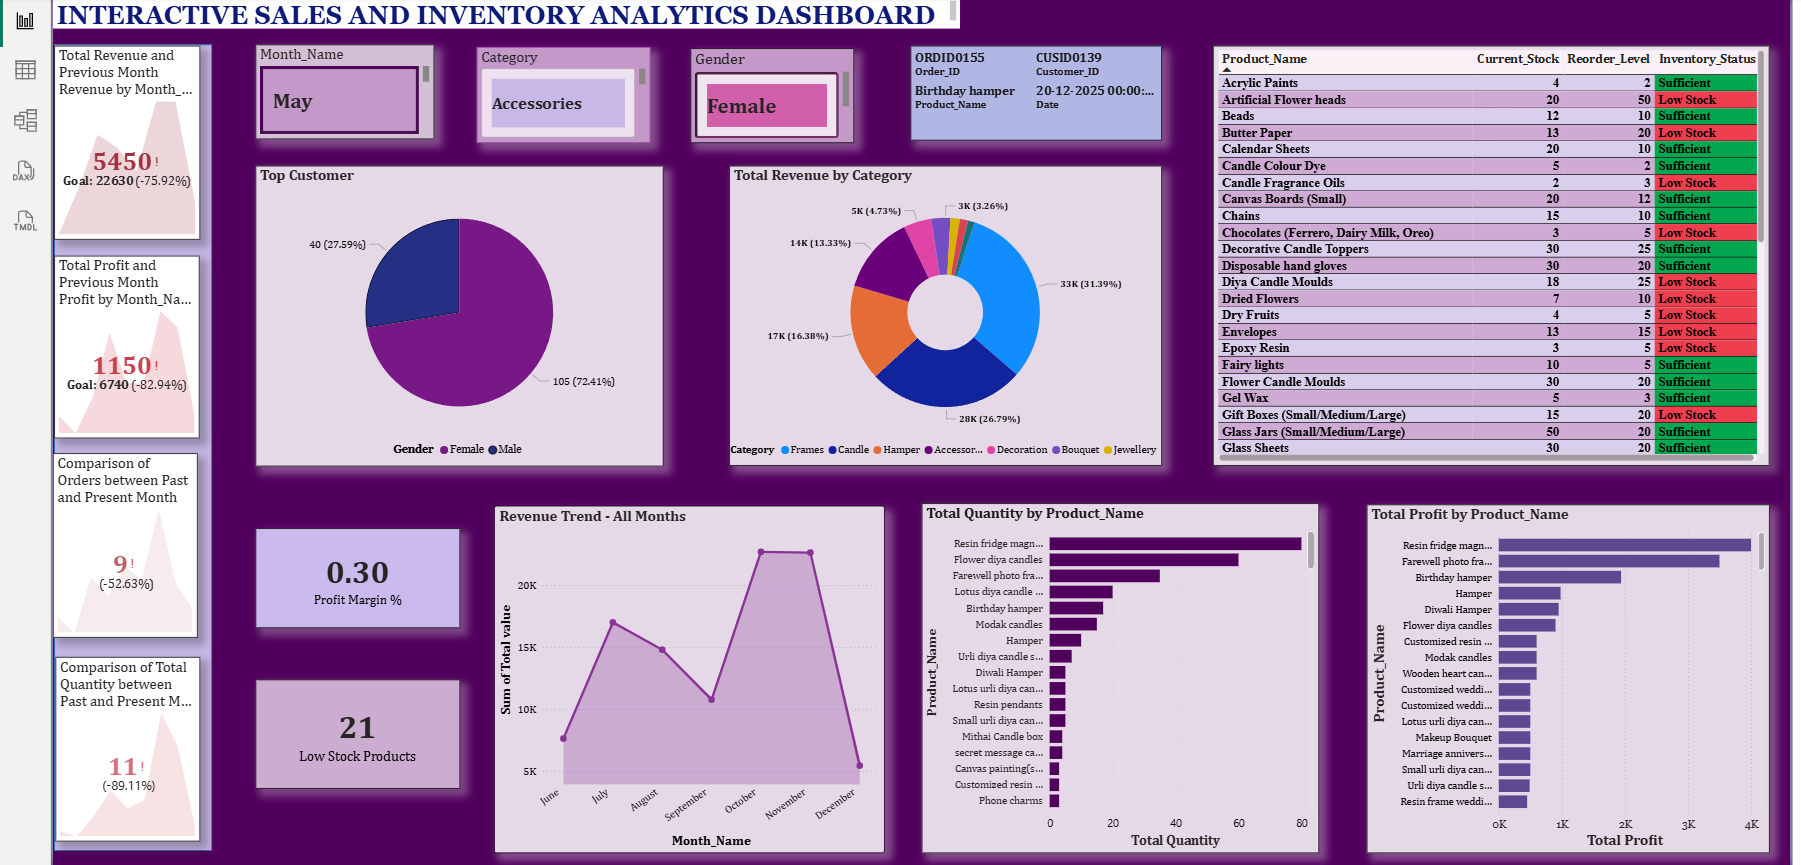

This screenshot's page, from the dashboard's own definition file:
{"tool":"powerbi","page":{"name":"Dashboard","canvas":[2200,1100],"ordinal":0},"visuals":[{"type":"shape","box":[1.7,60.5,199.9,1021.2],"z":0},{"type":"actionButton","box":[0,0,100,40],"z":1000},{"type":"donutChart","fields":{"Category":["Sales_sheet.Category"],"Y":["Sales_sheet.Total Revenue"]},"box":[856.5,213.7,547.8,380],"z":2000},{"type":"clusteredBarChart","fields":{"Category":["Sales_sheet.Product_Name"],"Y":["Sales_sheet.Total Quantity"]},"box":[1100.3,641.4,503.3,443.6],"z":3000},{"type":"pieChart","title":"Top Customer","fields":{"Category":["Customer_sheet.Gender (Male / Female /Other)"],"Y":["CountNonNull(Customer_sheet.Customer_ID)"]},"box":[255.9,213.2,516.9,380.4],"z":4000},{"type":"tableEx","fields":{"Values":["Inventory_sheet.Product_Name","Inventory_sheet.Current_Stock","Inventory_sheet.Reorder_Level","Inventory_sheet.Inventory_Status"]},"box":[1468.8,61.4,704.6,532.3],"z":5000},{"type":"lineChart","fields":{"Y":["Sum(Sales_sheet.Total value )"],"Category":["Date_sheet.Month_Name"]},"box":[559.6,644.9,494.7,440.1],"z":6000},{"type":"clusteredBarChart","fields":{"Category":["Sales_sheet.Product_Name"],"Y":["Sales_sheet.Total Profit"]},"box":[1663.3,643.1,510.1,441.8],"z":7000},{"type":"multiRowCard","fields":{"Values":["Order_sheet.Order_ID","Customer_sheet.Customer_ID","Sales_sheet.Product_Name","Date_sheet.Date"]},"box":[1086.1,61.7,318.2,120.3],"z":8000},{"type":"kpi","fields":{"Indicator":["Sales_sheet.Total Revenue"],"TrendLine":["Date_sheet.Month_Name"],"Goal":["Sales_sheet.Previous Month Revenue"]},"box":[1.7,62.1,184.8,245.2],"z":9000},{"type":"kpi","fields":{"Indicator":["Sales_sheet.Total Profit"],"TrendLine":["Date_sheet.Month_Name"],"Goal":["Sales_sheet.Profit Target"]},"box":[2.4,327.8,184,231.1],"z":10000},{"type":"kpi","title":"Comparison of Orders between Past and Present Month","fields":{"Indicator":["Sales_sheet.Total Orders"],"TrendLine":["Date_sheet.Month_Name"],"Goal":["Sales_sheet.Previous Month Orders"]},"box":[0,577.8,183.1,233.5],"z":11000},{"type":"kpi","title":"Comparison of Total Quantity between Past and Present Month","fields":{"Indicator":["Sales_sheet.Total Quantity"],"TrendLine":["Date_sheet.Month_Name"],"Goal":["Sales_sheet.Previous Month Quantity"]},"box":[3.4,836.4,183.1,233.5],"z":12000},{"type":"advancedSlicerVisual","fields":{"Values":["Date_sheet.Month_Name"]},"box":[256.5,60.2,226.4,120.3],"z":13000},{"type":"advancedSlicerVisual","fields":{"Values":["Sales_sheet.Category"]},"box":[536.7,63.3,220.1,121.9],"z":14000},{"type":"advancedSlicerVisual","title":"Gender ","fields":{"Values":["Customer_sheet.Gender (Male / Female /Other)"]},"box":[807.4,64.9,207.4,120.3],"z":15000},{"type":"card","fields":{"Values":["Sales_sheet.Profit Margin %"]},"box":[255.9,672.1,259.3,126.2],"z":16000},{"type":"card","fields":{"Values":["Inventory_sheet.Low Stock Products"]},"box":[255.9,864.9,259.3,138.2],"z":17000},{"type":"actionButton","box":[274.7,0,99.7,39.2],"z":18000},{"type":"textbox","box":[0,0,1148.8,40.3],"z":19000}]}

Visuals, with their boxes in screenshot pixels (x1, y1, x2, y2):
shape: (left=44, top=34, right=204, bottom=854)
actionButton: (left=42, top=0, right=122, bottom=18)
donutChart - Sales_sheet.Category x Sales_sheet.Total Revenue: (left=729, top=157, right=1169, bottom=462)
clusteredBarChart - Sales_sheet.Product_Name x Sales_sheet.Total Quantity: (left=925, top=500, right=1328, bottom=856)
"Top Customer" pieChart: (left=247, top=157, right=662, bottom=462)
tableEx - Inventory_sheet.Product_Name x Inventory_sheet.Current_Stock: (left=1220, top=35, right=1786, bottom=462)
lineChart - Sum(Sales_sheet.Total value ) x Date_sheet.Month_Name: (left=491, top=503, right=888, bottom=856)
clusteredBarChart - Sales_sheet.Product_Name x Sales_sheet.Total Profit: (left=1376, top=502, right=1786, bottom=856)
multiRowCard - Order_sheet.Order_ID x Customer_sheet.Customer_ID: (left=913, top=35, right=1169, bottom=132)
kpi - Sales_sheet.Total Revenue x Date_sheet.Month_Name: (left=44, top=36, right=192, bottom=232)
kpi - Sales_sheet.Total Profit x Date_sheet.Month_Name: (left=44, top=249, right=192, bottom=434)
"Comparison of Orders between Past and Present Month" kpi: (left=42, top=449, right=189, bottom=637)
"Comparison of Total Quantity between Past and Present Month" kpi: (left=45, top=657, right=192, bottom=844)
advancedSlicerVisual - Date_sheet.Month_Name: (left=248, top=34, right=430, bottom=131)
advancedSlicerVisual - Sales_sheet.Category: (left=473, top=37, right=649, bottom=134)
"Gender " advancedSlicerVisual: (left=690, top=38, right=856, bottom=134)
card - Sales_sheet.Profit Margin %: (left=247, top=525, right=455, bottom=626)
card - Inventory_sheet.Low Stock Products: (left=247, top=680, right=455, bottom=791)
actionButton: (left=263, top=0, right=343, bottom=17)
textbox: (left=42, top=0, right=964, bottom=18)
